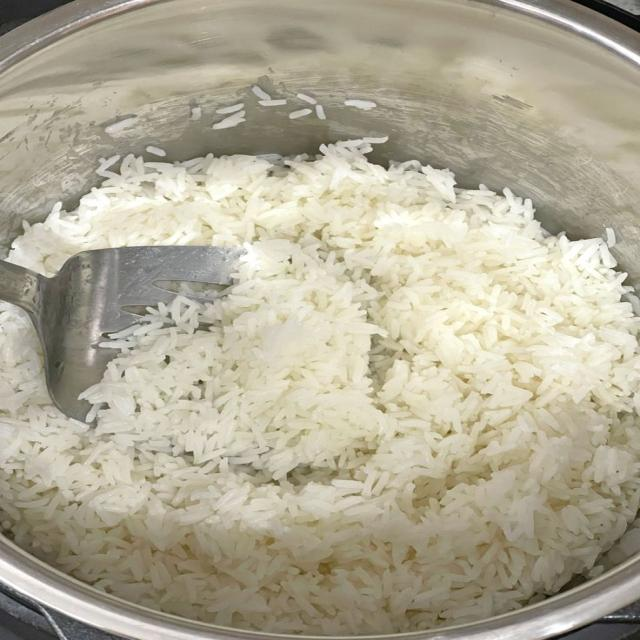rice: (0, 141, 639, 635), (105, 116, 138, 135), (213, 111, 246, 129), (345, 100, 376, 110), (216, 103, 244, 114), (252, 85, 271, 100), (297, 93, 317, 105), (289, 109, 312, 119), (146, 146, 166, 157), (362, 136, 388, 144), (606, 228, 616, 247), (259, 99, 286, 106), (190, 106, 202, 121), (315, 105, 326, 120)
